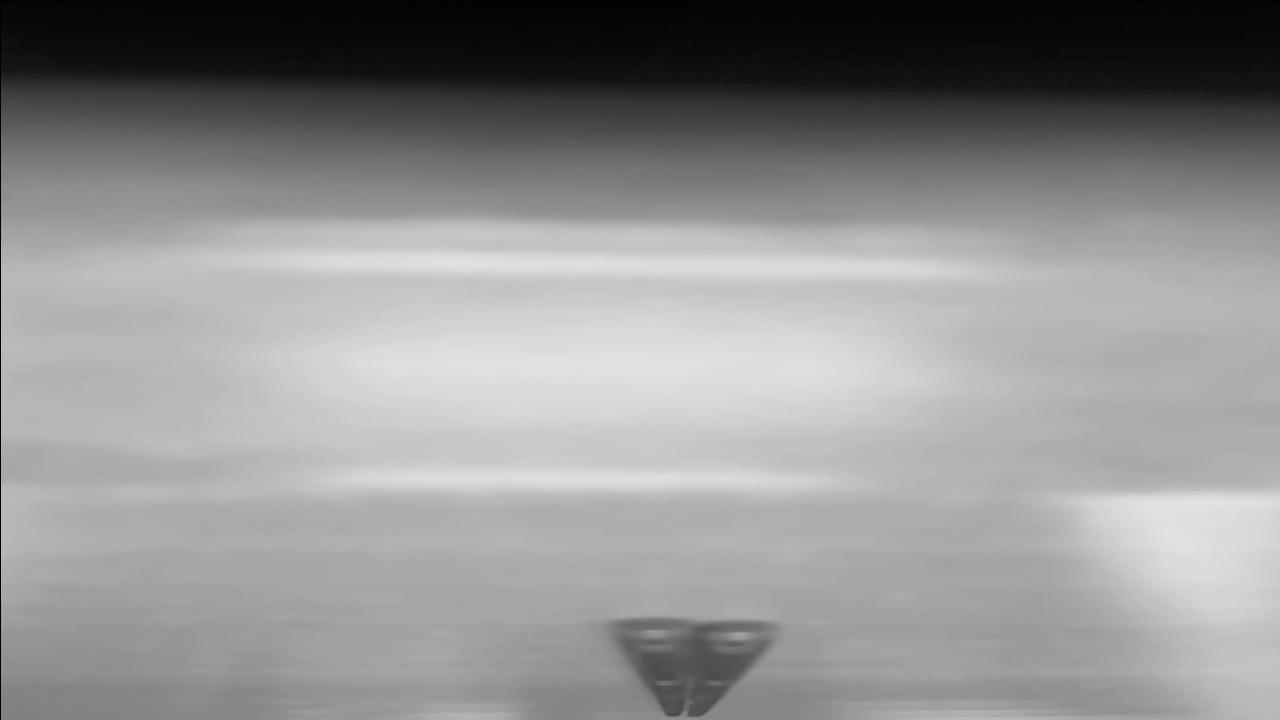chopstick: (606, 616, 776, 720)
